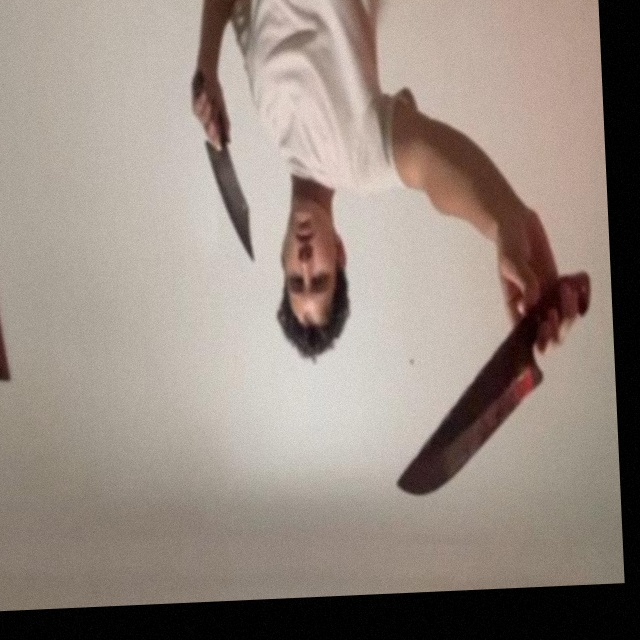Sharp-Object: (391, 347, 547, 496), (205, 141, 254, 263)
